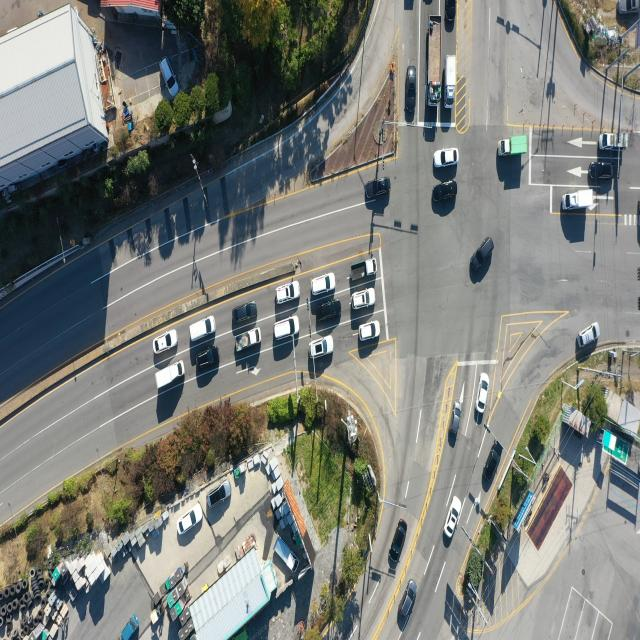car: (469, 235, 494, 272), (484, 438, 503, 481), (400, 580, 419, 622), (177, 505, 202, 536), (445, 497, 463, 539), (189, 315, 216, 343), (160, 59, 180, 95), (365, 176, 391, 202), (391, 520, 407, 561), (208, 481, 232, 508), (155, 330, 179, 355), (275, 319, 300, 343), (197, 348, 222, 371), (312, 337, 336, 360), (277, 280, 300, 304), (448, 402, 460, 448), (432, 184, 457, 206), (579, 322, 600, 348), (312, 273, 336, 295), (320, 299, 343, 321), (233, 303, 257, 324), (407, 65, 417, 115), (478, 372, 490, 413), (434, 148, 458, 168), (351, 288, 375, 308), (590, 164, 614, 184), (358, 320, 380, 341), (364, 318, 386, 339), (618, 0, 640, 15), (446, 0, 457, 24), (181, 626, 196, 640)
medium_truck: (427, 18, 442, 106)
small_truck: (272, 537, 298, 576), (157, 361, 187, 392), (445, 54, 458, 108), (563, 191, 594, 213), (499, 135, 528, 158), (234, 329, 260, 354), (118, 611, 140, 640), (599, 131, 629, 152), (350, 258, 376, 282)
